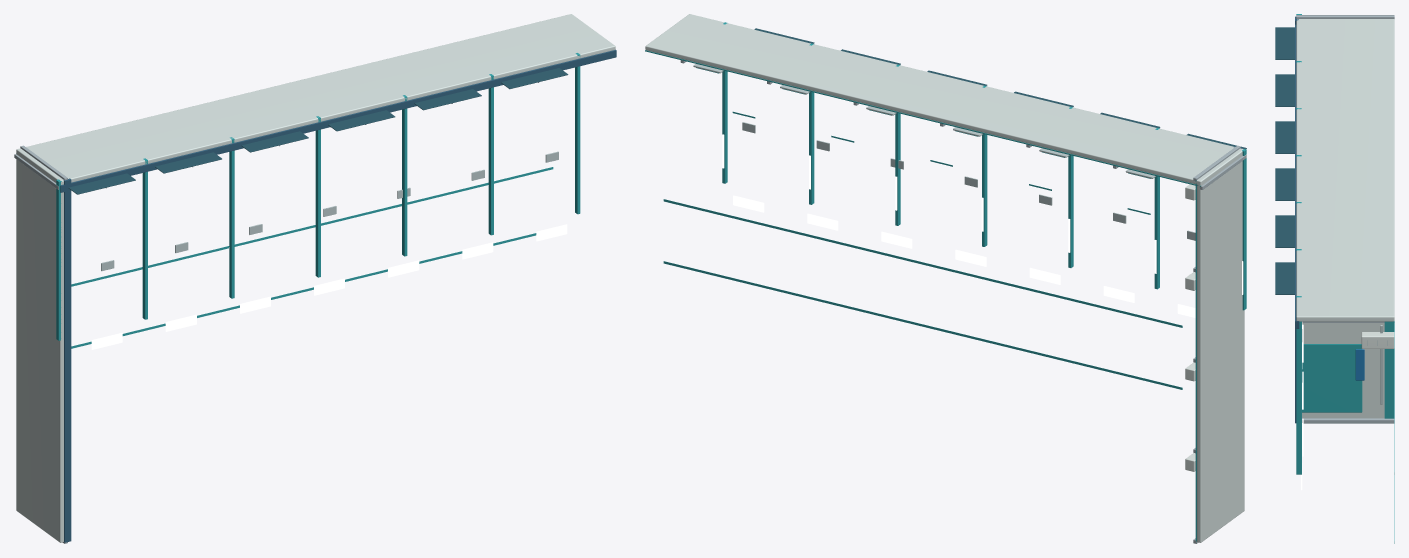
The model's file is hero_clinic_shell.glb.
3 renders of one model, left to right at view 1: azimuth 30°, elevation 25°; view 2: azimuth 150°, elevation 25°; view 3: azimuth 270°, elevation 25°, orthographic. The views are drawn at different scales.
Parts seen in each view (by area): view 1: Rear wall structural base, Left wall structural base, Roof edge beam rear, Roof edge beam side, Clinical corridor guidance strip.001, Overhead beam.001, Overhead beam.002, Overhead beam.003, Overhead beam.005, Overhead beam.006, Overhead beam.004, Clinical corridor guidance strip (+1 smaller); view 2: Rear wall structural base, Left wall structural base, Clinical corridor guidance strip, Clinical corridor guidance strip.001, Rear wall dark plinth, Overhead beam, Left wall dark plinth; view 3: Rear wall structural base, Wall lateral inset, Left wall structural base, Overhead beam.006, Left wall dark plinth, Wall high glazing, Wall high glazing.001, Wall high glazing.002, Wall high glazing.003, Wall high glazing.004, Wall high glazing.005, Roof edge beam rear (+7 smaller).
Boxes of the visible parts, <box> form: Rear wall structural base: <box>17,14,615,184</box>; Left wall structural base: <box>16,148,63,542</box>; Roof edge beam rear: <box>60,49,616,192</box>; Roof edge beam side: <box>63,178,71,542</box>; Clinical corridor guidance strip.001: <box>71,167,553,286</box>; Overhead beam.001: <box>142,158,147,319</box>; Overhead beam.002: <box>229,137,234,298</box>; Overhead beam.003: <box>315,116,320,277</box>; Overhead beam.005: <box>488,74,493,235</box>; Overhead beam.006: <box>575,53,580,214</box>; Overhead beam.004: <box>402,95,407,256</box>; Clinical corridor guidance strip: <box>71,233,536,348</box>; Rear wall structural base: <box>645,14,1240,184</box>; Left wall structural base: <box>1197,148,1244,542</box>; Clinical corridor guidance strip: <box>663,261,1182,389</box>; Clinical corridor guidance strip.001: <box>663,199,1182,327</box>; Rear wall dark plinth: <box>645,50,1200,186</box>; Overhead beam: <box>1242,149,1246,310</box>; Left wall dark plinth: <box>1195,180,1196,541</box>; Rear wall structural base: <box>1296,19,1394,321</box>; Wall lateral inset: <box>1302,344,1362,412</box>; Left wall structural base: <box>1302,323,1384,418</box>; Overhead beam.006: <box>1296,296,1301,474</box>; Left wall dark plinth: <box>1384,323,1394,418</box>; Wall high glazing: <box>1275,27,1294,59</box>; Wall high glazing.001: <box>1275,74,1294,106</box>; Wall high glazing.002: <box>1275,121,1294,153</box>; Wall high glazing.003: <box>1275,168,1294,200</box>; Wall high glazing.004: <box>1275,215,1294,247</box>; Wall high glazing.005: <box>1275,262,1294,294</box>; Roof edge beam rear: <box>1295,24,1299,328</box>.
Size of the model in its own units: 45.14 by 28.28 by 7.53.
